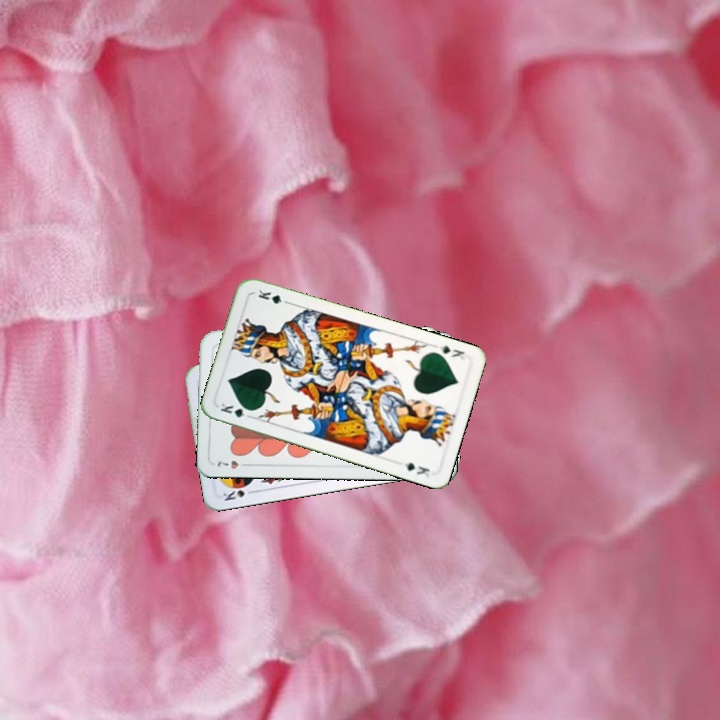GK: (216, 398, 256, 421), (435, 341, 467, 362)
H7: (213, 456, 252, 471)
SK: (219, 481, 258, 503)
